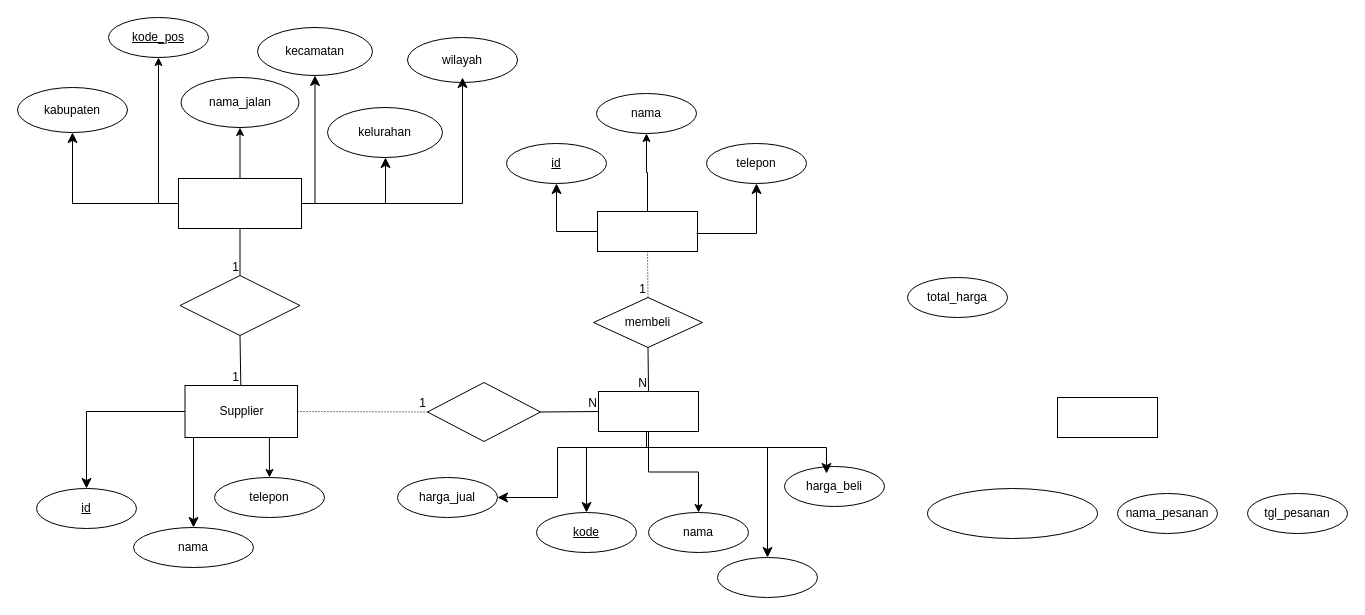
Some shapes in this 1365 by 615 pixel diagram are drawn without their labels. The shapes that lost their labels are listed below. From the top down, each one's box as (x1, y1, x2, y2) in pixels, then its label:
(178, 178, 302, 228): Alamat Supplier
(596, 210, 698, 252): Pelanggan
(179, 274, 300, 336): memiliki
(426, 382, 540, 442): menyediakan
(598, 390, 698, 432): Barang
(1056, 396, 1158, 438): Pemesanan
(926, 488, 1098, 538): nomor_antrian_pesanan
(716, 556, 818, 598): ukuran
